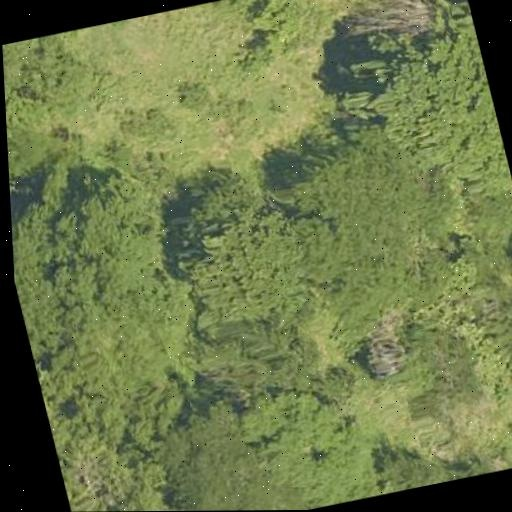tree-top: (9, 178, 202, 411), (154, 171, 366, 343), (361, 19, 507, 177), (306, 124, 450, 269), (138, 395, 306, 511), (274, 386, 391, 510), (58, 440, 176, 512), (230, 0, 322, 62), (374, 440, 456, 494), (3, 66, 37, 166), (334, 0, 466, 15), (453, 452, 490, 479), (509, 209, 512, 331)
